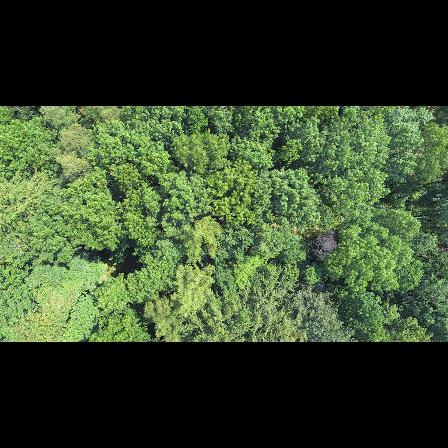Dead: (304, 231, 340, 263)
